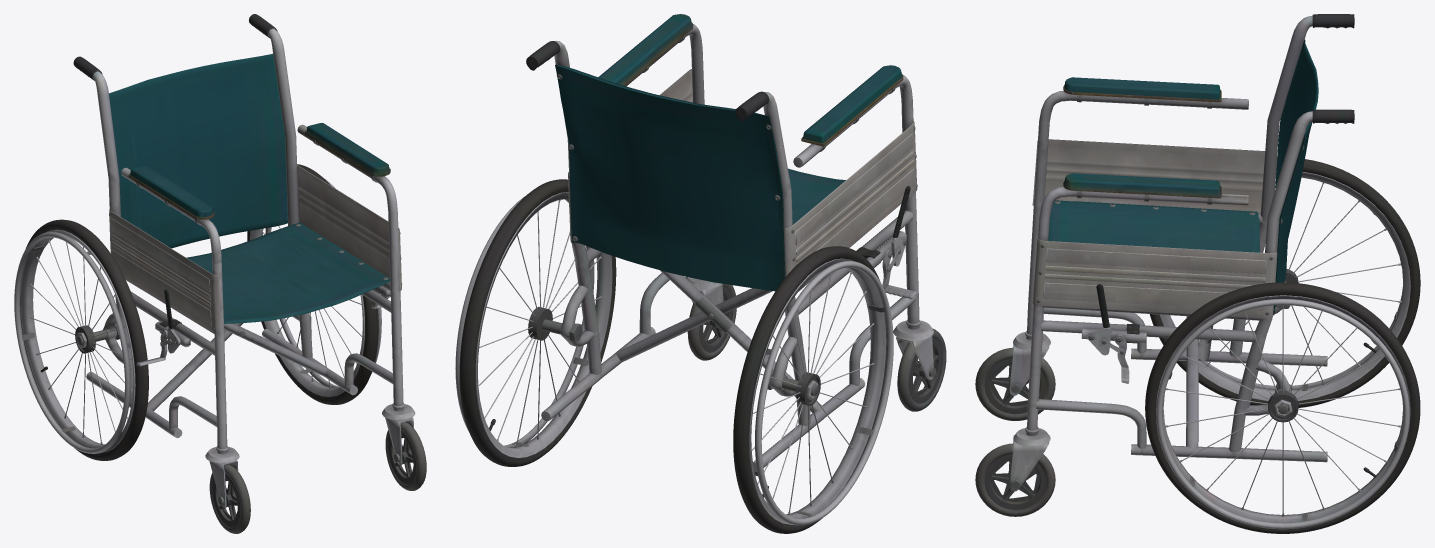
Rendered from wheelchair.glb.
3 views of the same model, side by side, from view 1: azimuth 30°, elevation 25°; view 2: azimuth 150°, elevation 25°; view 3: azimuth 270°, elevation 25° (orthographic). The views are drawn at different scales.
Parts seen in each view (by area): view 1: wheelchair_01; view 2: wheelchair_01; view 3: wheelchair_01.
Part boxes in pixels (x1,y1,x2,y2): wheelchair_01: (14, 14, 426, 533); wheelchair_01: (455, 14, 946, 533); wheelchair_01: (975, 14, 1420, 533).
Bounding box in the file's own units: 0.8241 × 1.1 × 1.09.
Materials: 1 (1 with a texture image).
